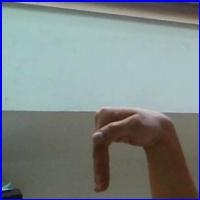del: (88, 100, 180, 191)
